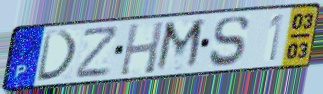1: (268, 13, 285, 62)
D: (35, 28, 80, 83)
H: (117, 20, 166, 77)
M: (153, 17, 208, 74)
S: (208, 14, 251, 69)
Z: (74, 23, 122, 80)
